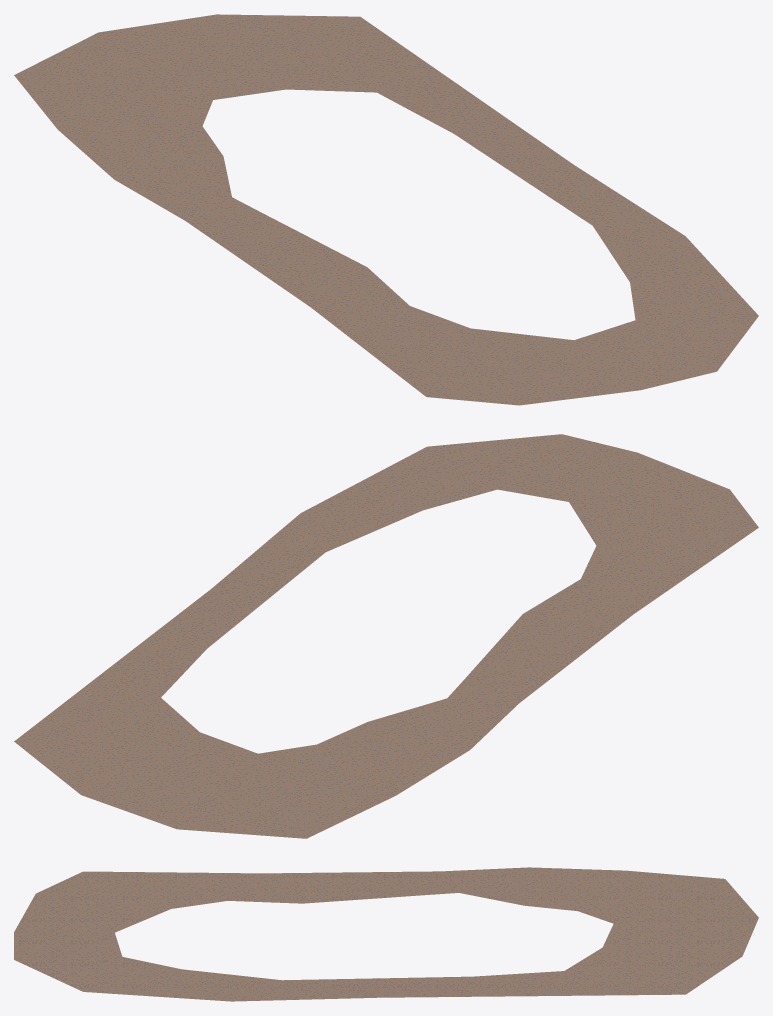
File: kd_stage_135b75_3_7.glb
The picture shows the model from 3 angles, top to bottom: view 1: azimuth 30°, elevation 25°; view 2: azimuth 150°, elevation 25°; view 3: azimuth 270°, elevation 25°; orthographic projection. The views are drawn at different scales.
Parts seen in each view (by area): view 1: kd_stage_135b75_3_7; view 2: kd_stage_135b75_3_7; view 3: kd_stage_135b75_3_7.
Boxes of the visible parts, bbox=[...] form: kd_stage_135b75_3_7: bbox=[14, 14, 758, 405]; kd_stage_135b75_3_7: bbox=[14, 434, 758, 838]; kd_stage_135b75_3_7: bbox=[14, 867, 758, 1001].
Bounding box in the file's own units: 0.7505 × 3.58e-07 × 1.76.
1 material, 1 textured.
